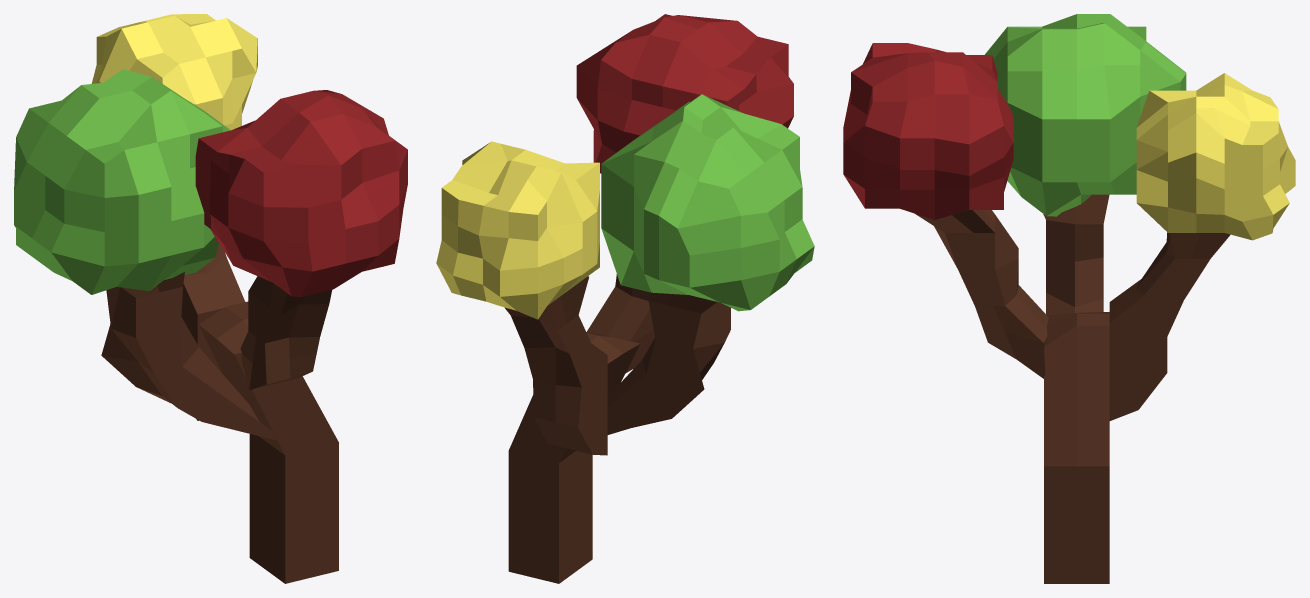
File: drzewo3 inny kolor.fbx
3 renders of one model, left to right at view 1: azimuth 30°, elevation 25°; view 2: azimuth 150°, elevation 25°; view 3: azimuth 270°, elevation 25°, orthographic. The views are drawn at different scales.
Visible parts, largest first — view 1: Cube.006, Cube.004, Cube, Cube.002, Cube.005, Cube.003, Cube.001; view 2: Cube.006, Cube.005, Cube.004, Cube, Cube.001, Cube.002, Cube.003; view 3: Cube.006, Cube.004, Cube.005, Cube, Cube.001, Cube.003, Cube.002.
Part boxes in pixels (box(x1,y1,x2,y2)): Cube.006: box(14, 69, 230, 294); Cube.004: box(195, 90, 407, 297); Cube: box(198, 301, 338, 583); Cube.002: box(101, 272, 276, 440); Cube.005: box(91, 14, 257, 130); Cube.003: box(240, 276, 331, 390); Cube.001: box(181, 243, 245, 420); Cube.006: box(601, 94, 814, 311); Cube.005: box(436, 141, 599, 319); Cube.004: box(576, 14, 793, 173); Cube: box(508, 332, 639, 583); Cube.001: box(504, 276, 607, 455); Cube.002: box(607, 292, 730, 434); Cube.003: box(587, 274, 654, 373); Cube.006: box(985, 14, 1186, 216); Cube.004: box(843, 43, 1013, 219); Cube.005: box(1136, 73, 1295, 240); Cube: box(1044, 312, 1109, 583); Cube.001: box(1109, 232, 1230, 420); Cube.003: box(915, 210, 1048, 378); Cube.002: box(1043, 194, 1109, 314).
Size of the model in its own units: 332 by 581 by 484.
